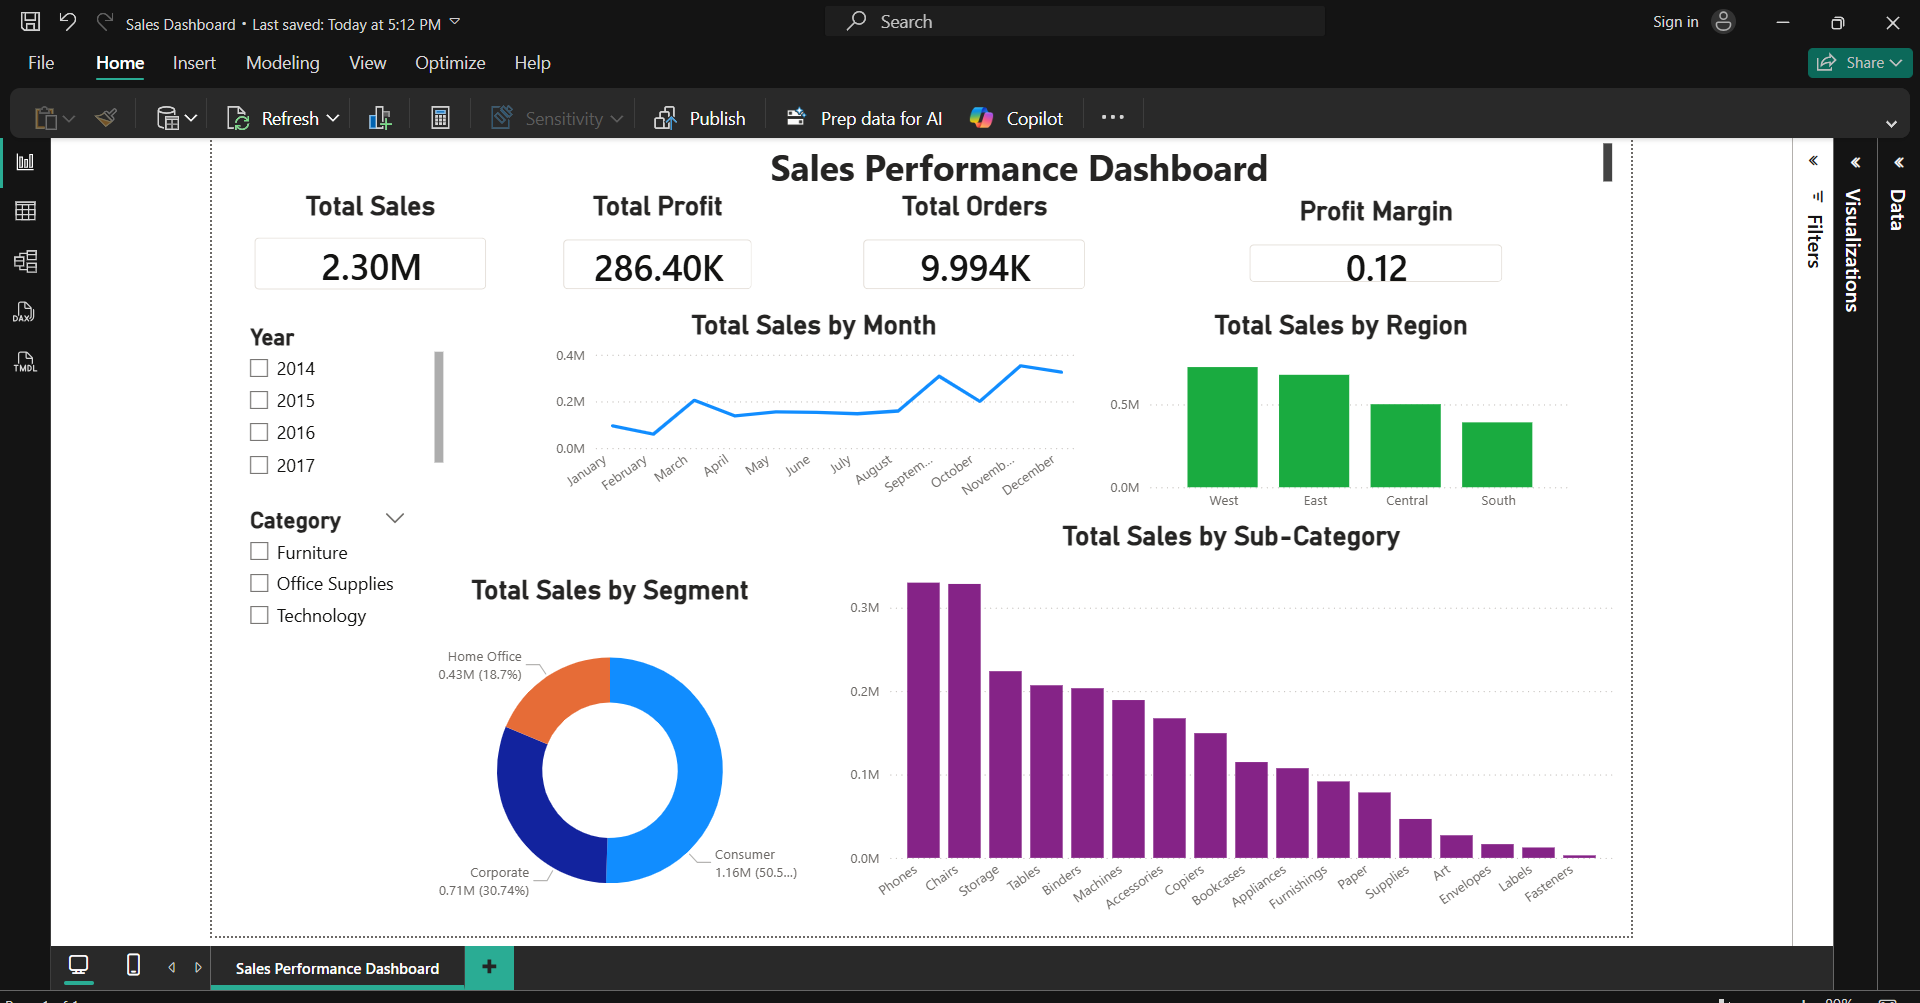

The page's visual inventory and layout, read from the dashboard file:
{"tool":"powerbi","page":{"name":"Sales Performance Dashboard","canvas":[1280,720],"ordinal":0},"visuals":[{"type":"cardVisual","title":"Total Sales","fields":{"Data":["Sum(Orders$FilterDatabase.Sales)"]},"box":[20.9,47.7,243,107],"z":0},{"type":"cardVisual","title":"Total Profit","fields":{"Data":["Sum(Orders$FilterDatabase.Profit)"]},"box":[300,47.7,204.7,107],"z":1000},{"type":"cardVisual","title":"Total Orders","fields":{"Data":["CountNonNull(Orders$FilterDatabase.Order ID)"]},"box":[569.8,47.7,234.9,107],"z":2000},{"type":"cardVisual","title":"Profit Margin","fields":{"Data":["Orders$FilterDatabase.Profit Margin"]},"box":[918.6,52.3,262.8,95.3],"z":3000},{"type":"lineChart","title":"Total Sales by Month","fields":{"Category":["Orders$FilterDatabase.Order Date.Variation.Date Hierarchy.Month"],"Y":["Sum(Orders$FilterDatabase.Sales)"]},"box":[300,154.7,486,181.4],"z":4000},{"type":"clusteredColumnChart","title":"Total Sales by Region","fields":{"Category":["Orders$FilterDatabase.Region"],"Y":["Sum(Orders$FilterDatabase.Sales)"]},"box":[804.7,154.7,426.7,190.7],"z":5000},{"type":"clusteredColumnChart","title":"Total Sales by Sub-Category","fields":{"Category":["Orders$FilterDatabase.Sub-Category"],"Y":["Sum(Orders$FilterDatabase.Sales)"]},"box":[569.8,345.3,697.7,374.4],"z":6000},{"type":"slicer","fields":{"Values":["Orders$FilterDatabase.Order Date.Variation.Date Hierarchy.Year"]},"box":[20.9,162.8,191.9,147.7],"z":8000},{"type":"slicer","fields":{"Values":["Orders$FilterDatabase.Category"]},"box":[20.9,327.9,165.1,129.1],"z":9000},{"type":"textbox","box":[196.4,0,1071.5,48.1],"z":10000},{"type":"donutChart","title":"Total Sales by Segment","fields":{"Category":["Orders$FilterDatabase.Segment"],"Y":["Sum(Orders$FilterDatabase.Sales)"]},"box":[174.4,393,368.6,326.7],"z":10001}]}

Visuals, with their boxes on the page's 1280x720 design canvas (x1, y1, x2, y2). These are canvas units, not pixel positions in the 1920x1003 screenshot, which may show the page scaled, cropped or inside an application window:
"Total Sales" cardVisual: pyautogui.locateOnScreen(21, 48, 264, 155)
"Total Profit" cardVisual: pyautogui.locateOnScreen(300, 48, 505, 155)
"Total Orders" cardVisual: pyautogui.locateOnScreen(570, 48, 805, 155)
"Profit Margin" cardVisual: pyautogui.locateOnScreen(919, 52, 1181, 148)
"Total Sales by Month" lineChart: pyautogui.locateOnScreen(300, 155, 786, 336)
"Total Sales by Region" clusteredColumnChart: pyautogui.locateOnScreen(805, 155, 1231, 345)
"Total Sales by Sub-Category" clusteredColumnChart: pyautogui.locateOnScreen(570, 345, 1268, 720)
slicer - Orders$FilterDatabase.Order Date.Variation.Date Hierarchy.Year: pyautogui.locateOnScreen(21, 163, 213, 310)
slicer - Orders$FilterDatabase.Category: pyautogui.locateOnScreen(21, 328, 186, 457)
textbox: pyautogui.locateOnScreen(196, 0, 1268, 48)
"Total Sales by Segment" donutChart: pyautogui.locateOnScreen(174, 393, 543, 720)
